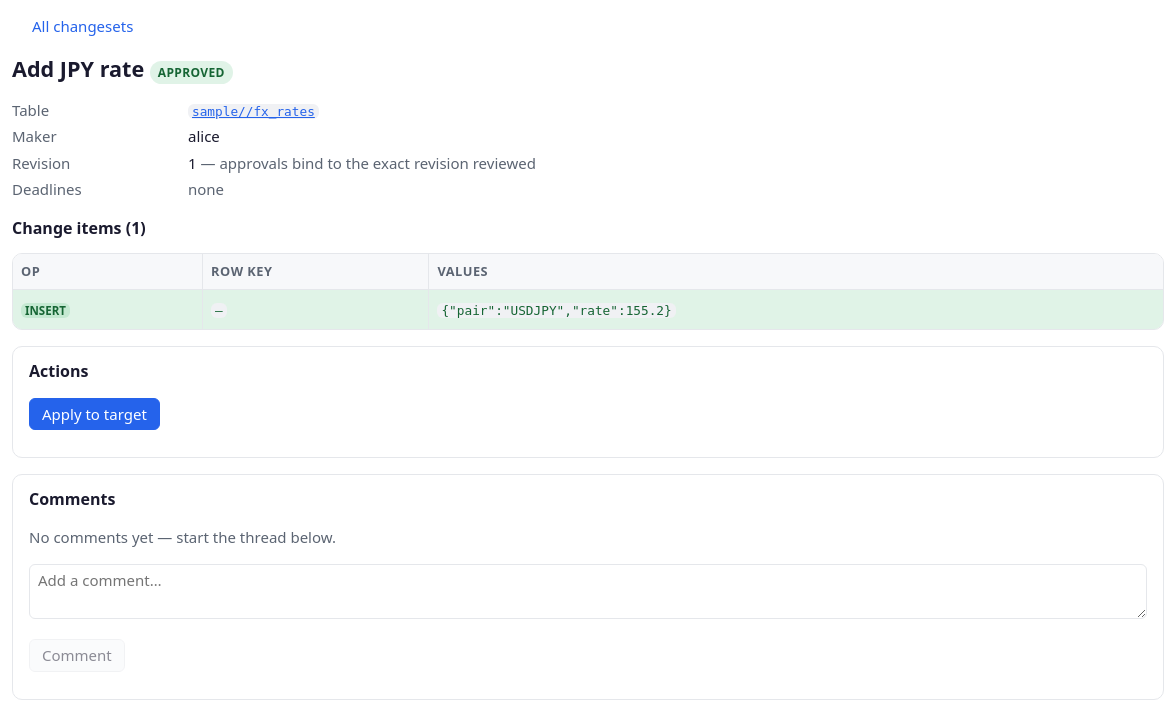
Test: ChangesetDetail apply action › renders the target's reason when apply comes back not-ok
Click the button "Apply to target".
click(94, 414)  # box left=29, top=398, right=160, bottom=430
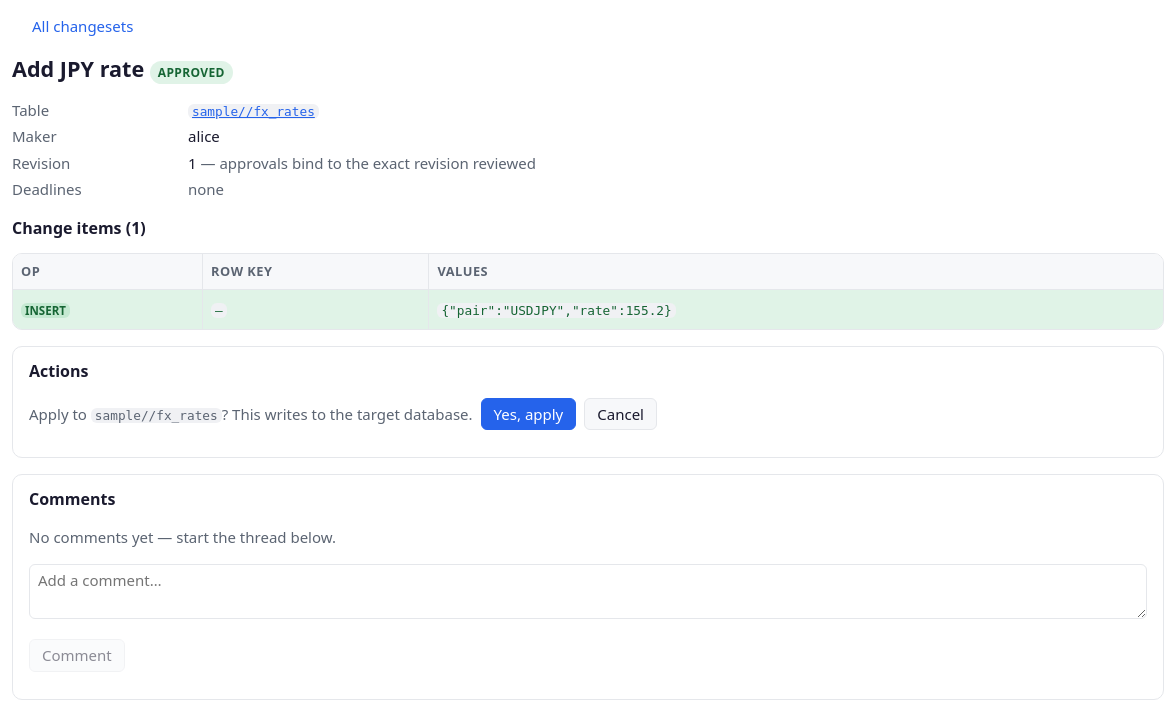
Click the button "Yes, apply".
click(528, 414)  # box left=481, top=398, right=576, bottom=430
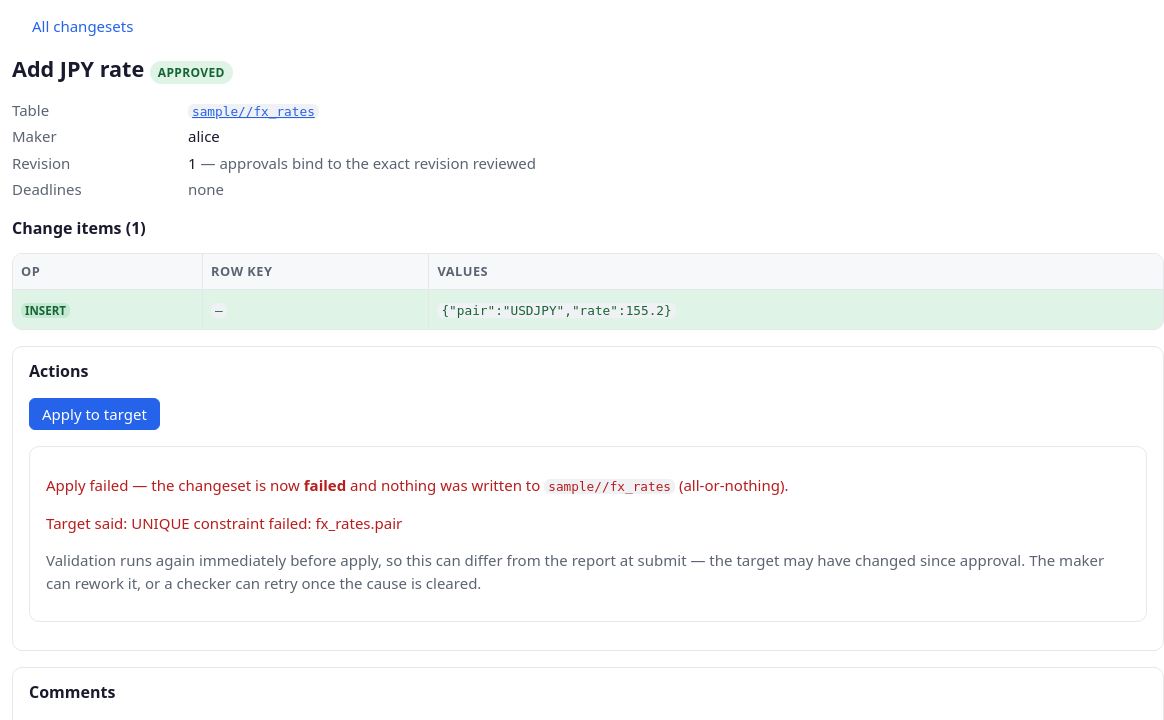
Check: the text "Target said: UNIQUE constraint failed: fx_rates.pair" is shown, box left=46, top=513, right=402, bottom=533
Check: the text "all-or-nothing" is shown, box left=675, top=475, right=788, bottom=495
